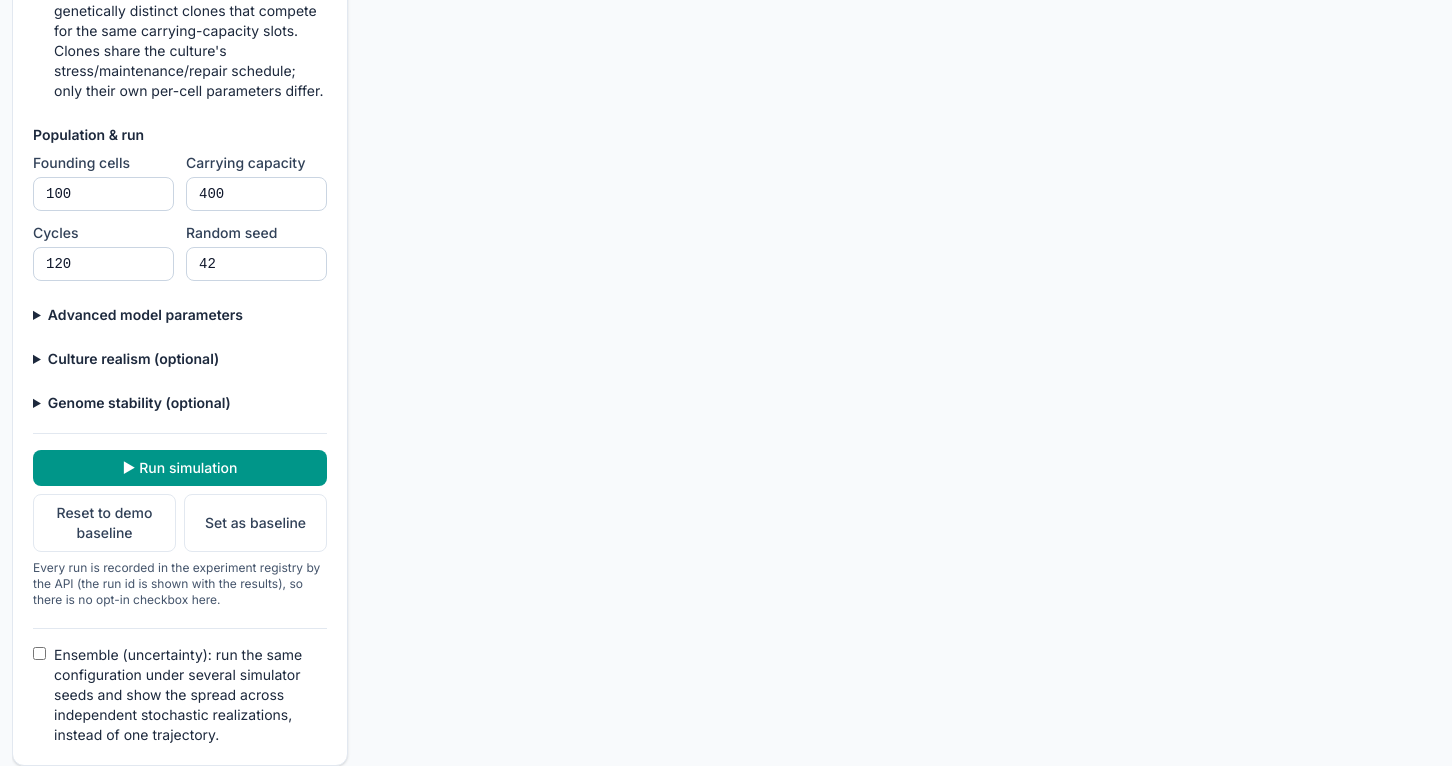
Scenario: Simulate page › ensemble (uncertainty) mode › shows the API error on a 400
(page scrolled)
Click the checkbox labelled "Ensemble (uncertainty)" at coordinates (40, 653), box [33,646,46,660]
(page scrolled)
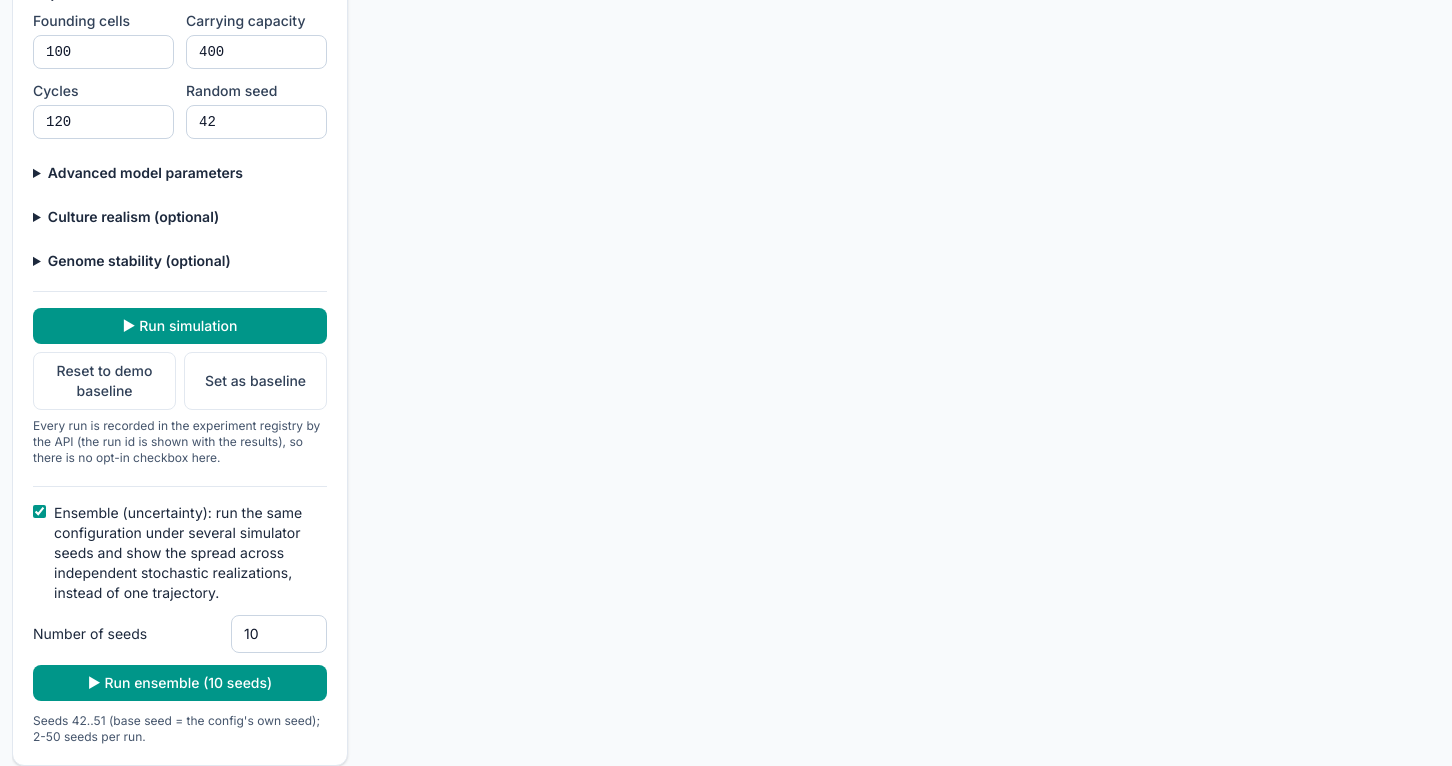
Click the button "▶ Run ensemble (10 seeds)" at coordinates (180, 682), box [33,664,327,700]
(page scrolled)
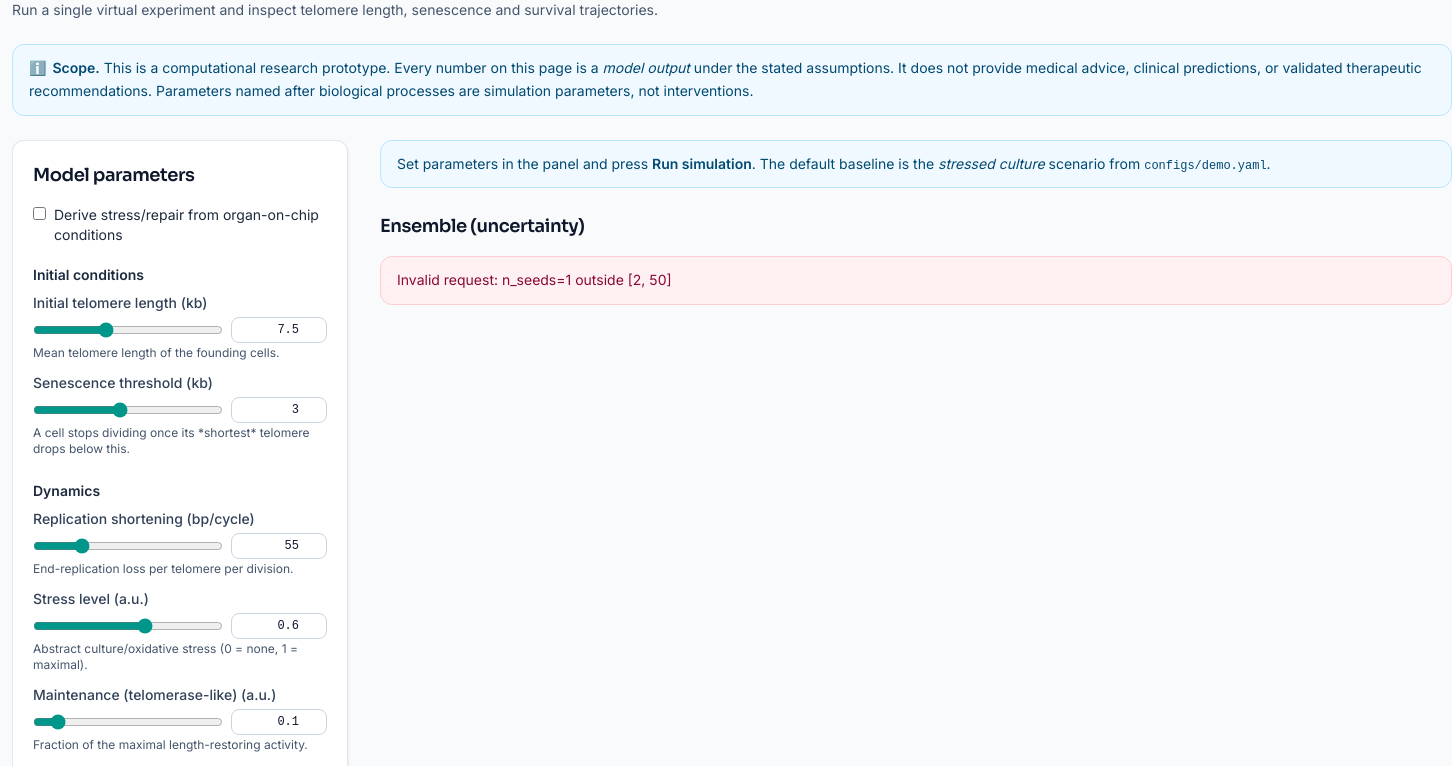
Check: the message reads "Invalid request: n_seeds=1 outside [2, 50]", box [397,271,672,288]
